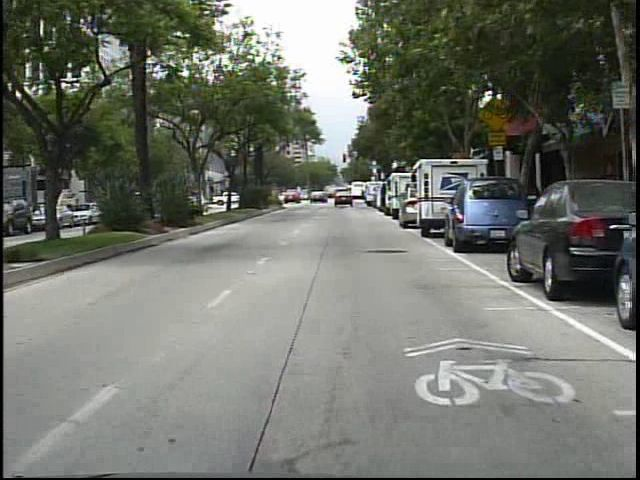person: (359, 183, 366, 203)
